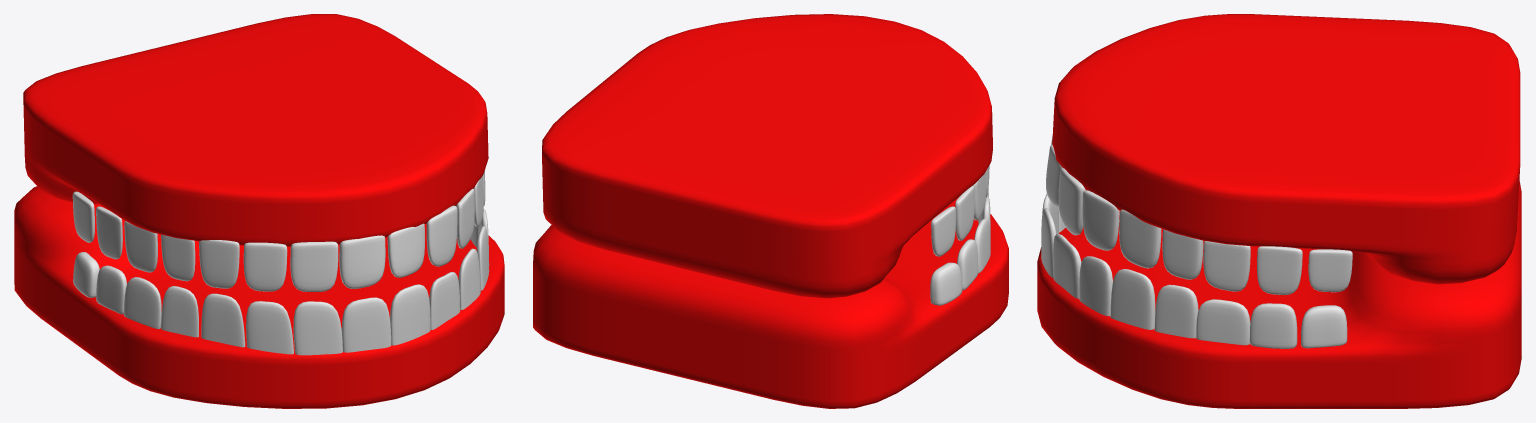
File: ChatTeeth.FBX
3 renders of one model, left to right at view 1: azimuth 30°, elevation 25°; view 2: azimuth 150°, elevation 25°; view 3: azimuth 270°, elevation 25°, orthographic. The views are drawn at different scales.
Visible parts, largest first — view 1: ChatterTeethTop, ChatterTeethBottom; view 2: ChatterTeethTop, ChatterTeethBottom; view 3: ChatterTeethTop, ChatterTeethBottom.
Boxes of the visible parts, x1=… form: ChatterTeethTop: x1=23, y1=14, x2=488, y2=291; ChatterTeethBottom: x1=14, y1=186, x2=504, y2=408; ChatterTeethTop: x1=542, y1=14, x2=992, y2=298; ChatterTeethBottom: x1=533, y1=190, x2=1008, y2=408; ChatterTeethTop: x1=1046, y1=14, x2=1520, y2=295; ChatterTeethBottom: x1=1037, y1=180, x2=1521, y2=408.
Bounding box in the file's own units: 165 × 177 × 90.49.
